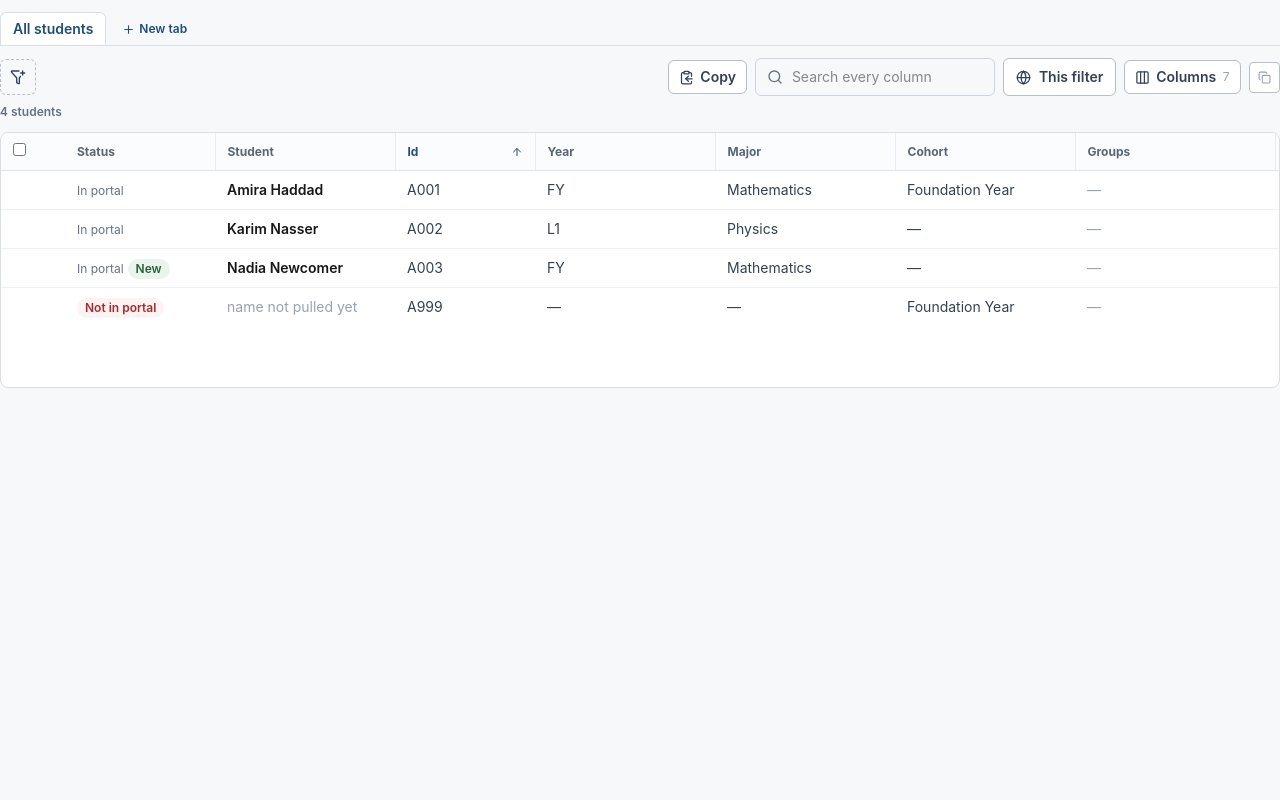
it: StudentRoster › column filters › narrows by a column's own values
Expected: the text "Amira Haddad" is shown, [227,181,323,198]
Click the button named "Filter": {"x": 18, "y": 77} [0,59,36,95]
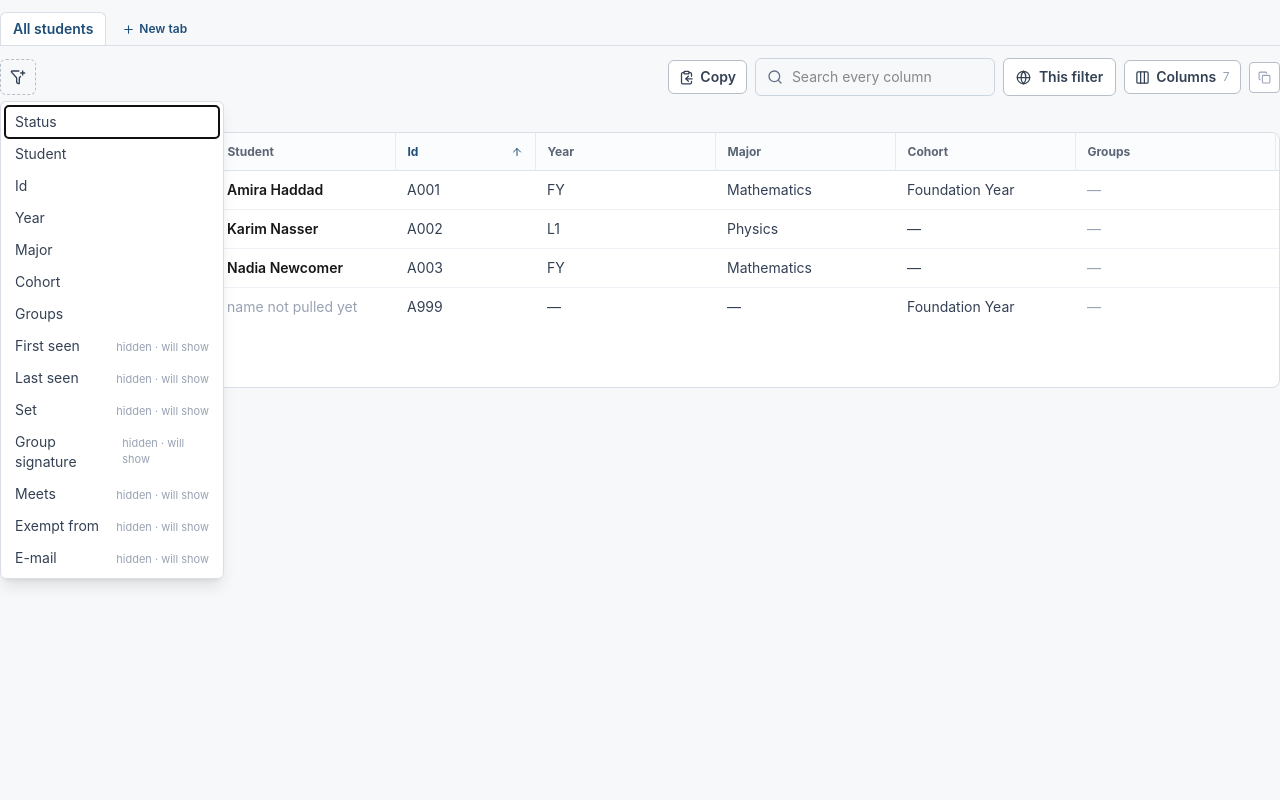
Click the 2nd button "Year": {"x": 112, "y": 218} [5,202,219,234]
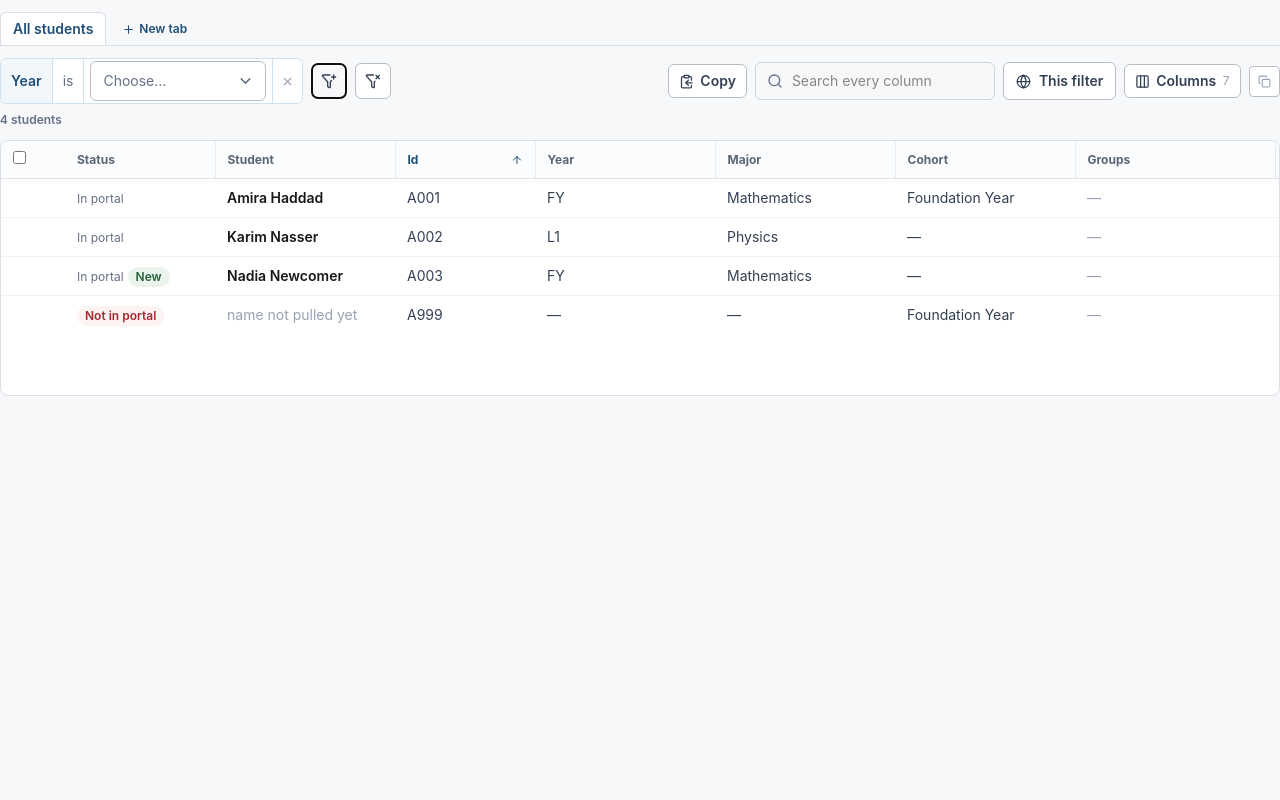
Click the dropdown named "Year value": {"x": 178, "y": 81} [90,61,266,101]
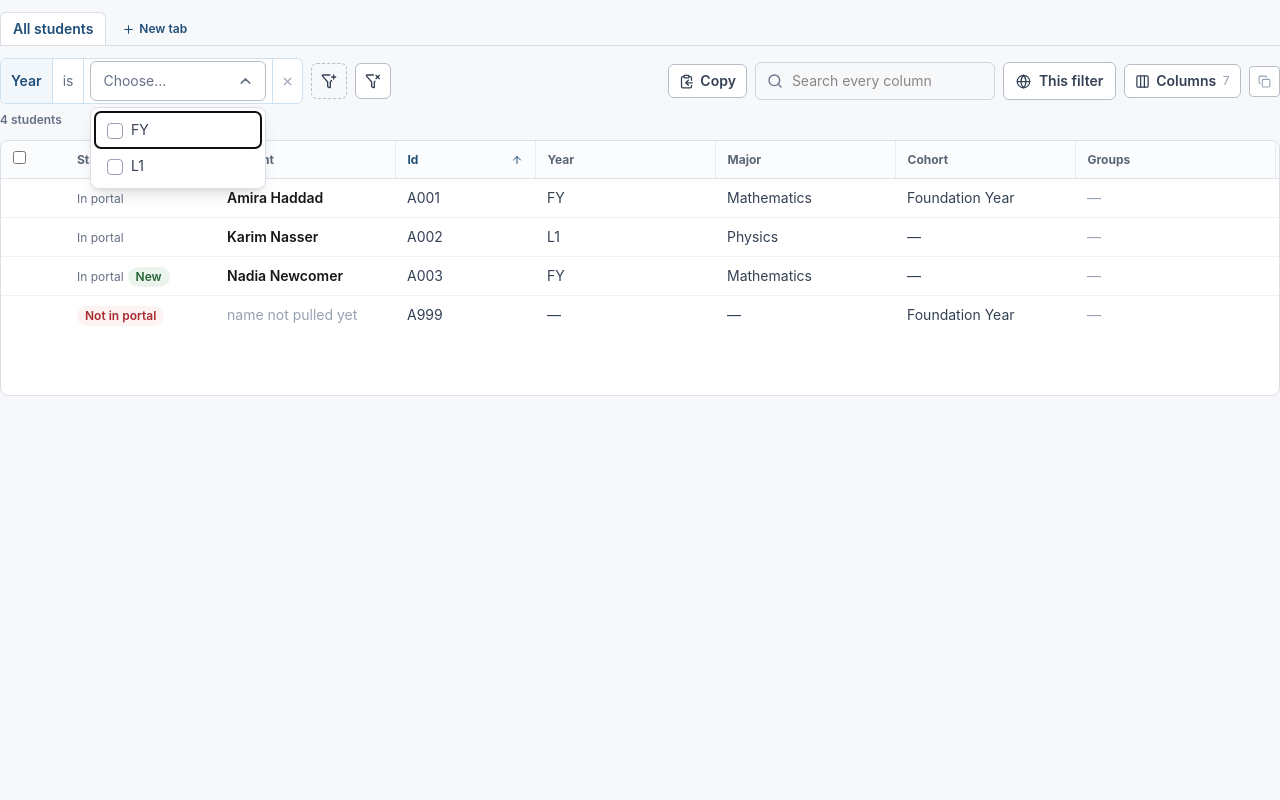
Click the option "L1": {"x": 178, "y": 166} [95,148,261,184]
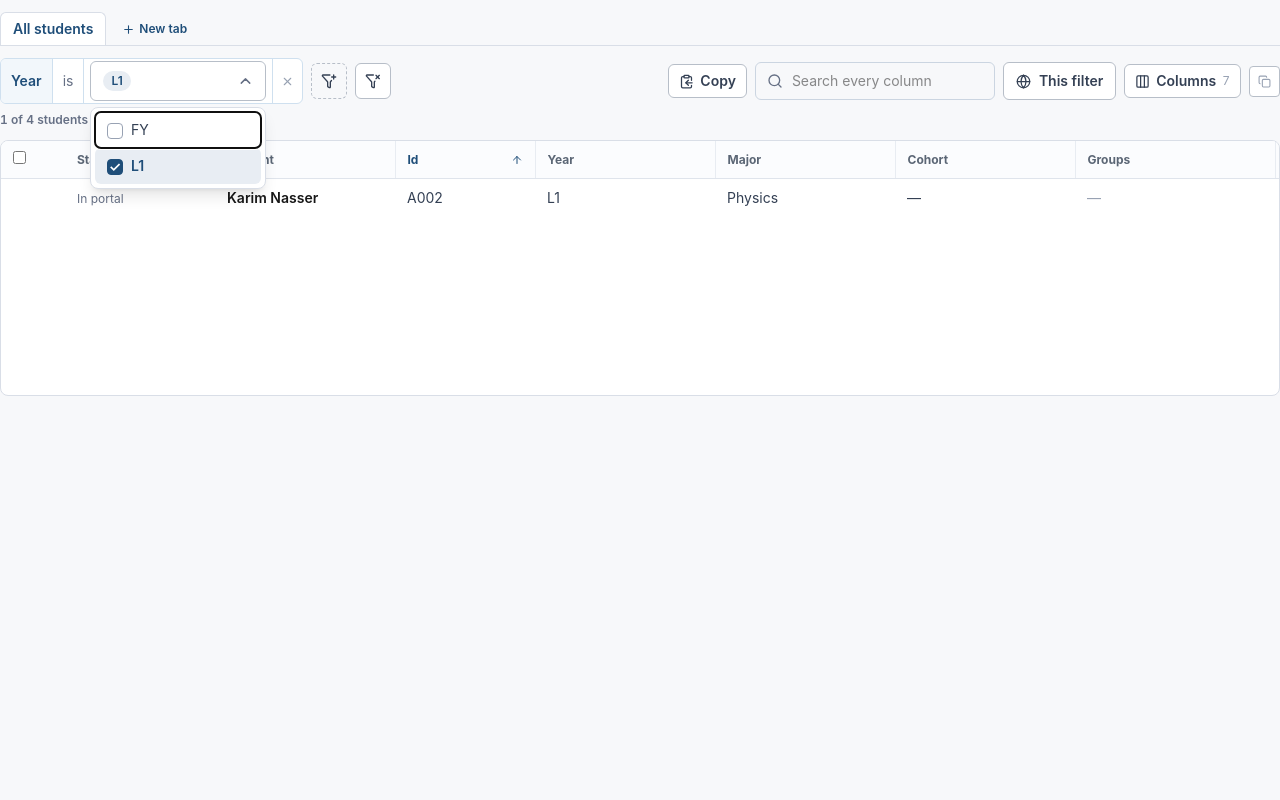
Expected: the text "Karim Nasser" is shown, [227,189,318,206]
Now the text "Amira Haddad" is gone
